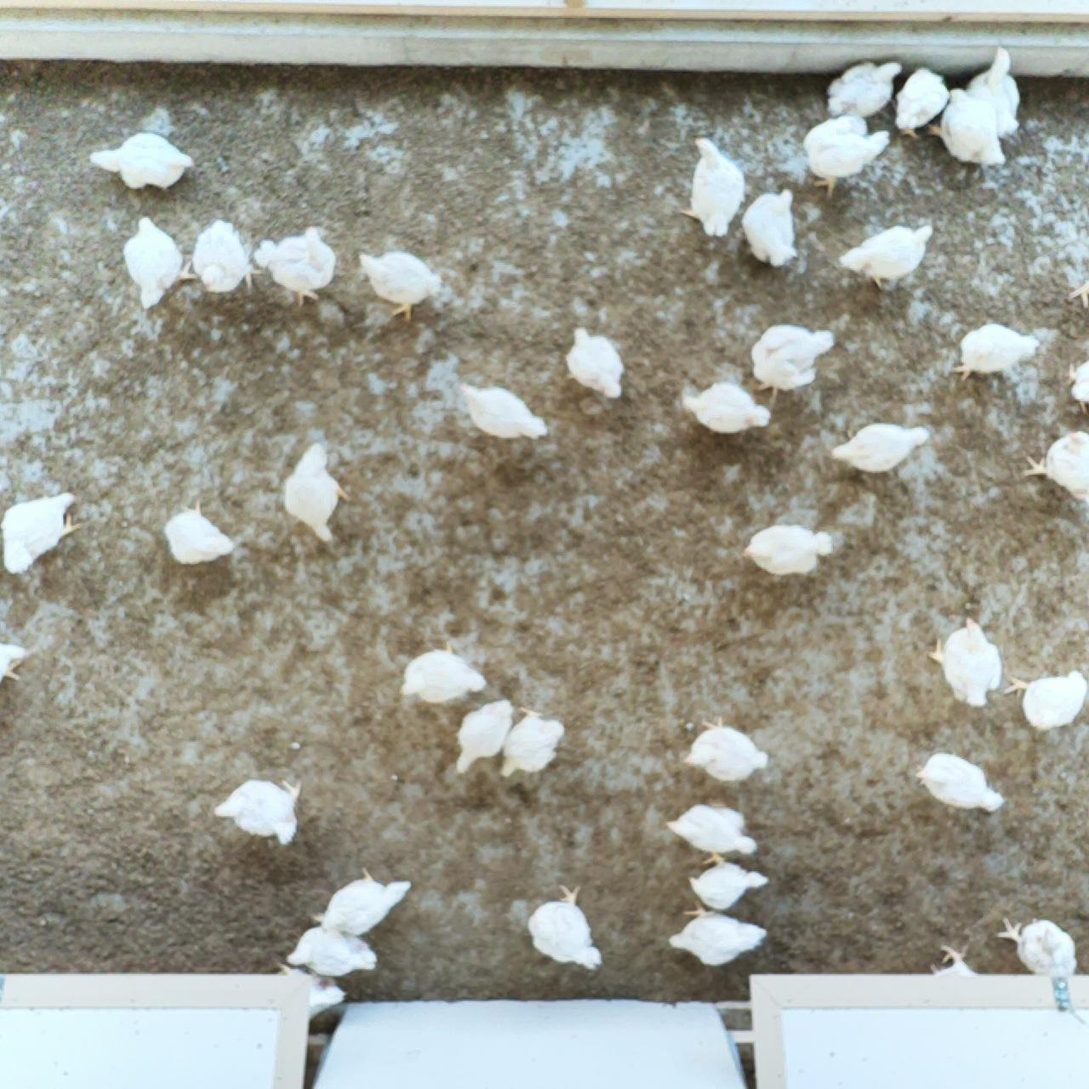chicken: (86, 123, 201, 196), (0, 488, 86, 582), (523, 879, 608, 974), (927, 609, 1006, 711), (120, 213, 199, 315), (279, 436, 352, 546), (250, 221, 341, 309), (665, 900, 774, 973), (748, 314, 836, 404), (352, 243, 447, 326), (802, 112, 895, 196), (676, 133, 749, 240), (316, 863, 417, 940), (211, 772, 310, 850), (924, 82, 1010, 170), (399, 634, 492, 714), (834, 220, 935, 291), (677, 711, 774, 783), (911, 744, 1006, 817), (458, 376, 553, 446), (946, 318, 1045, 385), (989, 908, 1081, 980), (660, 795, 761, 860), (1000, 665, 1089, 738), (188, 214, 265, 296), (965, 43, 1029, 140), (737, 186, 810, 271), (678, 374, 774, 438), (739, 518, 838, 579), (447, 694, 518, 778), (559, 321, 630, 405), (157, 496, 237, 570), (1016, 427, 1089, 504), (682, 852, 769, 915), (823, 55, 907, 120), (287, 923, 381, 978), (499, 703, 567, 779), (273, 955, 347, 1024), (888, 62, 954, 139), (1061, 355, 1089, 419)
